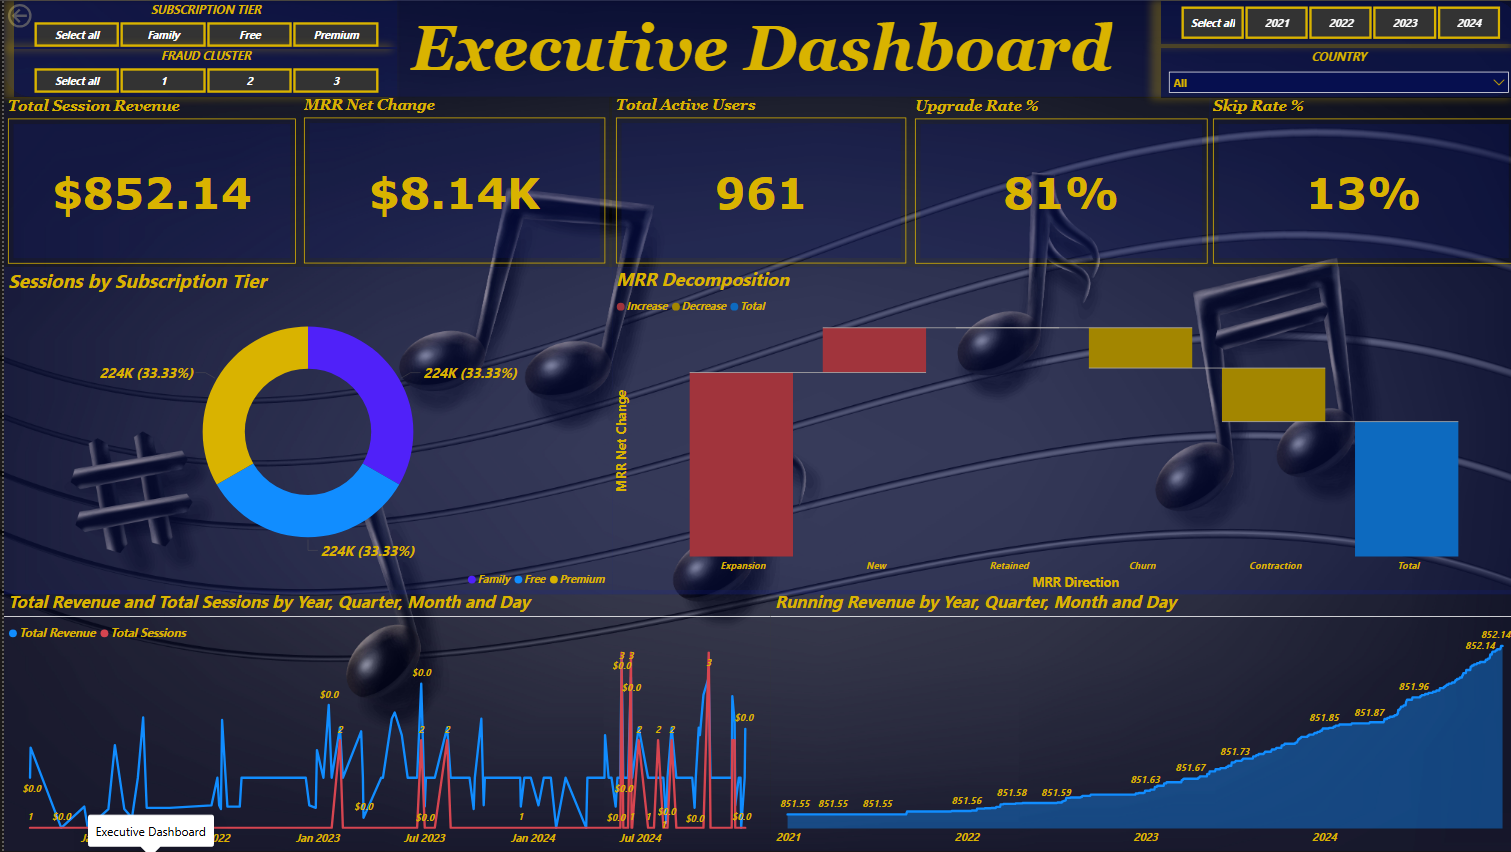

This screenshot's page, from the dashboard's own definition file:
{"tool":"powerbi","page":{"name":"Executive Dashboard","canvas":[1920,1080],"ordinal":1},"visuals":[{"type":"shape","box":[0,0,1920,122.6],"z":0},{"type":"cardVisual","title":"Total Session Revenue","fields":{"Data":["bridge_playlist_track.Total Session Revenue"]},"box":[0,123.9,375.8,215.1],"z":1000},{"type":"cardVisual","title":"MRR Net Change","fields":{"Data":["bridge_playlist_track.MRR Net Change"]},"box":[375.8,122.6,392.2,216.5],"z":2000},{"type":"cardVisual","title":"Total Active Users","fields":{"Data":["bridge_playlist_track.Active Users"]},"box":[770.7,122.6,378.6,216.5],"z":3000},{"type":"cardVisual","title":"Upgrade Rate %","fields":{"Data":["bridge_playlist_track.Upgrade Rate %"]},"box":[1149.3,123.9,381.3,215.1],"z":4000},{"type":"cardVisual","title":"Skip Rate %","fields":{"Data":["bridge_playlist_track.Skip Rate"]},"box":[1527.8,123.9,392.2,215.1],"z":5000},{"type":"donutChart","title":"Sessions by Subscription Tier","fields":{"Y":["bridge_playlist_track.Total Sessions"],"Category":["fact_subscription_event.to_tier"]},"box":[0,339.1,770.7,415.3],"z":6000},{"type":"waterfallChart","title":"MRR Decomposition","fields":{"Category":["fact_subscription_event.MRR Direction"],"Y":["bridge_playlist_track.MRR Net Change"]},"box":[770.7,339.1,1149.3,415.3],"z":7000},{"type":"actionButton","box":[0,0,100,40],"z":8000},{"type":"lineChart","fields":{"Y":["bridge_playlist_track.Total Revenue"],"Y2":["bridge_playlist_track.Total Sessions"],"Category":["dim_date.full_date.Variation.Date Hierarchy.Year","dim_date.full_date.Variation.Date Hierarchy.Quarter","dim_date.full_date.Variation.Date Hierarchy.Month","dim_date.full_date.Variation.Date Hierarchy.Day"]},"box":[0,747.8,971.6,331.2],"z":9000},{"type":"areaChart","fields":{"Category":["dim_date.full_date.Variation.Date Hierarchy.Year","dim_date.full_date.Variation.Date Hierarchy.Quarter","dim_date.full_date.Variation.Date Hierarchy.Month","dim_date.full_date.Variation.Date Hierarchy.Day"],"Y":["bridge_playlist_track.Running Revenue"]},"box":[971.7,748.4,948.3,331.2],"z":10000},{"type":"slicer","fields":{"Values":["dim_date.year"]},"box":[1466.3,1.5,453.7,55.4],"z":11000},{"type":"slicer","title":"COUNTRY","fields":{"Values":["dim_country.country_name"]},"box":[1466.3,61.3,450.8,62.7],"z":12000},{"type":"slicer","title":"SUBSCRIPTION TIER","fields":{"Values":["dim_user.subscription_tier"]},"box":[13.1,1.5,485.8,61.3],"z":13000},{"type":"slicer","title":"FRAUD CLUSTER","fields":{"Values":["dim_user.plan_id"]},"box":[13.1,59.8,485.8,62.7],"z":14000}]}

Visuals, with their boxes in screenshot pixels (x1, y1, x2, y2), scaled from the page's 1920x1080 canvas onto the 1511x852 screenshot:
shape: 0/0/1510/97
"Total Session Revenue" cardVisual: 0/98/296/267
"MRR Net Change" cardVisual: 296/97/604/268
"Total Active Users" cardVisual: 607/97/904/268
"Upgrade Rate %" cardVisual: 904/98/1205/267
"Skip Rate %" cardVisual: 1202/98/1510/267
"Sessions by Subscription Tier" donutChart: 0/268/607/595
"MRR Decomposition" waterfallChart: 607/268/1510/595
actionButton: 0/0/79/32
lineChart - bridge_playlist_track.Total Revenue x bridge_playlist_track.Total Sessions: 0/590/765/851
areaChart - dim_date.full_date.Variation.Date Hierarchy.Year x dim_date.full_date.Variation.Date Hierarchy.Quarter: 765/590/1510/851
slicer - dim_date.year: 1154/1/1510/45
"COUNTRY" slicer: 1154/48/1509/98
"SUBSCRIPTION TIER" slicer: 10/1/393/50
"FRAUD CLUSTER" slicer: 10/47/393/97
